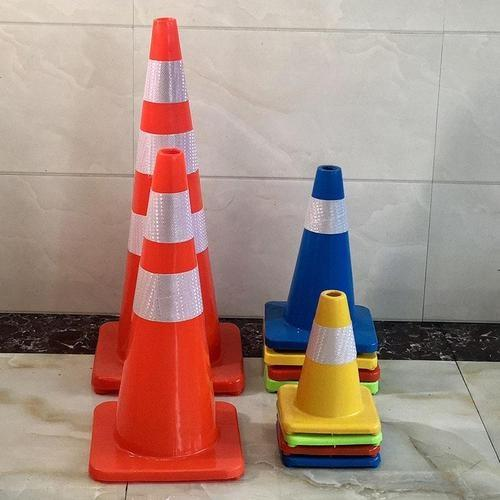cone_barrel: (101, 149, 234, 478), (108, 17, 229, 370), (273, 164, 371, 339), (284, 290, 374, 429)
